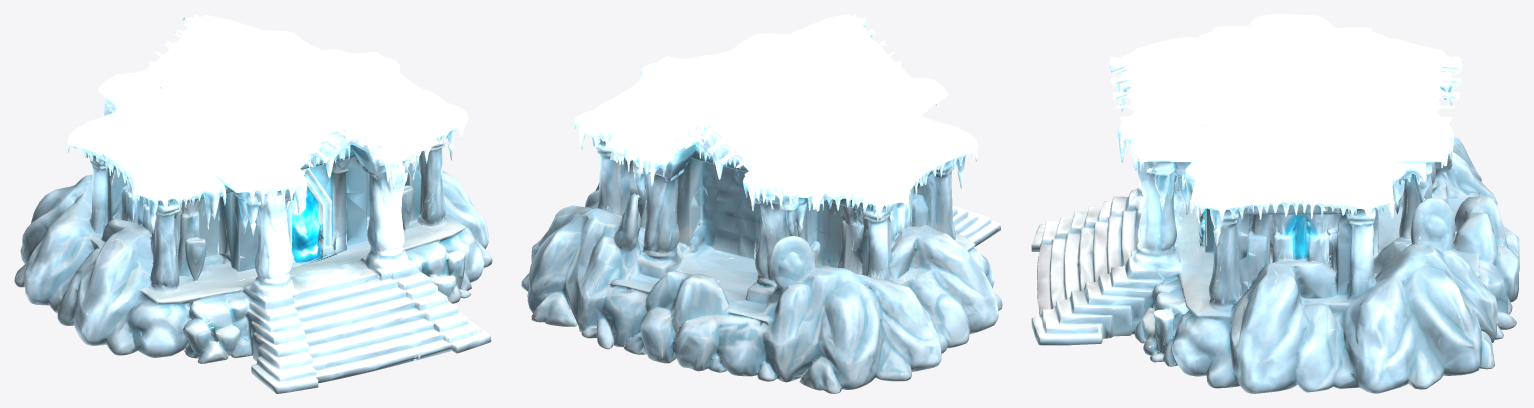
File: ice_temple.glb
3 views of the same model, side by side, from view 1: azimuth 30°, elevation 25°; view 2: azimuth 150°, elevation 25°; view 3: azimuth 270°, elevation 25° (orthographic). The views are drawn at different scales.
Visible parts, largest first — view 1: world; view 2: world; view 3: world.
Part boxes in pixels (x1=…): world: x1=14, y1=14, x2=492, y2=393; world: x1=521, y1=14, x2=1002, y2=393; world: x1=1031, y1=14, x2=1519, y2=393.
Size of the model in its own units: 1.91 by 1.1 by 1.83.
Materials: 1 (1 with a texture image).
